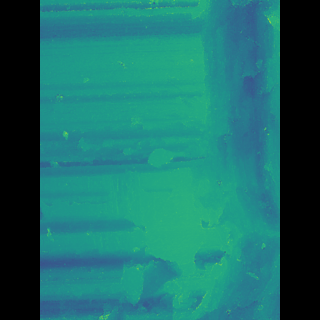Loch: (188, 0, 249, 320), (105, 152, 191, 319)
